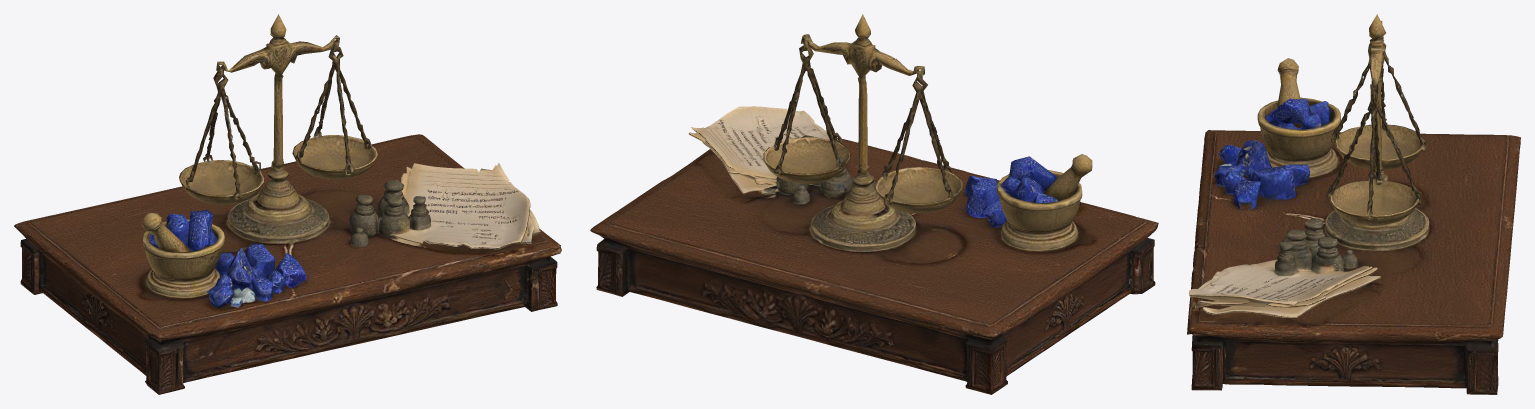
The model's file is hero_prop_alchemical_scale.glb.
3 views of the same model, side by side, from view 1: azimuth 30°, elevation 25°; view 2: azimuth 150°, elevation 25°; view 3: azimuth 270°, elevation 25° (orthographic). The views are drawn at different scales.
Visible parts, largest first — view 1: tripo_node_4042cea4-fcd7-4efd-980b-322f4091d800; view 2: tripo_node_4042cea4-fcd7-4efd-980b-322f4091d800; view 3: tripo_node_4042cea4-fcd7-4efd-980b-322f4091d800.
Part boxes in pixels (x1=…): tripo_node_4042cea4-fcd7-4efd-980b-322f4091d800: x1=14, y1=14, x2=561, y2=394; tripo_node_4042cea4-fcd7-4efd-980b-322f4091d800: x1=590, y1=14, x2=1158, y2=394; tripo_node_4042cea4-fcd7-4efd-980b-322f4091d800: x1=1187, y1=14, x2=1520, y2=394.
Size of the model in its own units: 1.02 by 0.6508 by 0.7003.
Materials: 1 (1 with a texture image).
